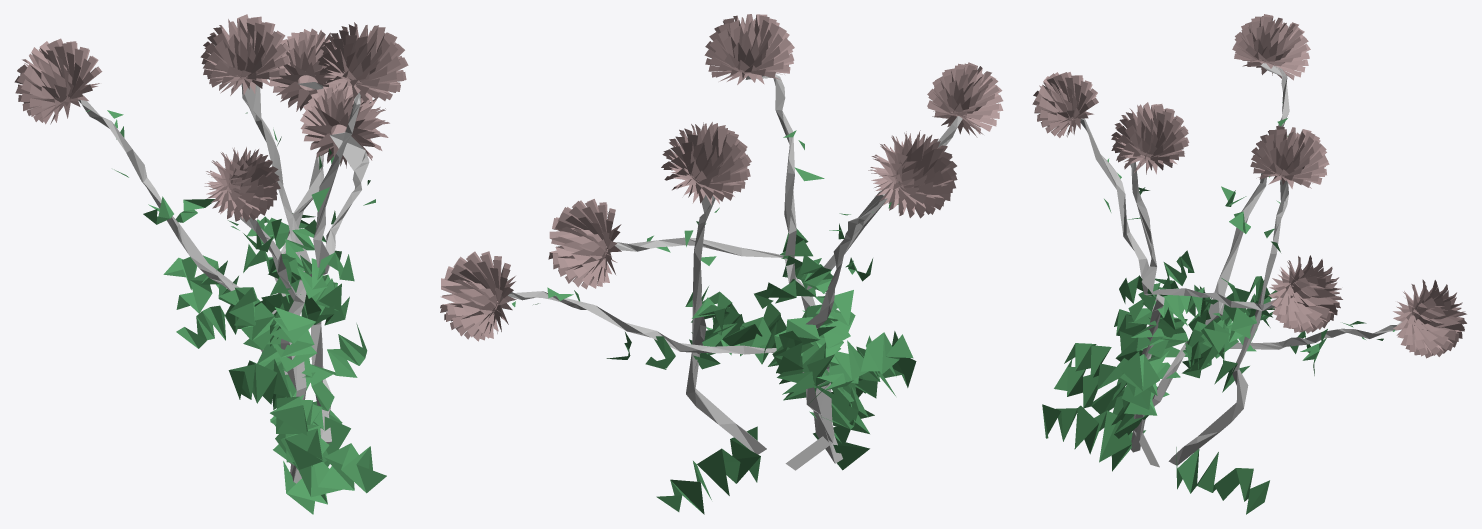
Rendered from Clover.fbx.
The picture shows the model from 3 angles, left to right: view 1: azimuth 30°, elevation 25°; view 2: azimuth 150°, elevation 25°; view 3: azimuth 270°, elevation 25°; orthographic projection. The views are drawn at different scales.
Visible parts, largest first — view 1: clover1Leaf, clover1Flower, clover1Main; view 2: clover1Flower, clover1Leaf, clover1Main; view 3: clover1Flower, clover1Leaf, clover1Main.
Part boxes in pixels (x1=…): clover1Leaf: x1=86, y1=110, x2=386, y2=514; clover1Flower: x1=14, y1=14, x2=408, y2=222; clover1Main: x1=78, y1=82, x2=369, y2=483; clover1Flower: x1=440, y1=14, x2=1003, y2=341; clover1Leaf: x1=512, y1=130, x2=916, y2=514; clover1Main: x1=508, y1=74, x2=962, y2=470; clover1Flower: x1=1032, y1=14, x2=1466, y2=358; clover1Leaf: x1=1042, y1=102, x2=1394, y2=514; clover1Main: x1=1080, y1=63, x2=1401, y2=467.
Bounding box in the file's own units: 1 × 1.05 × 1.04.
